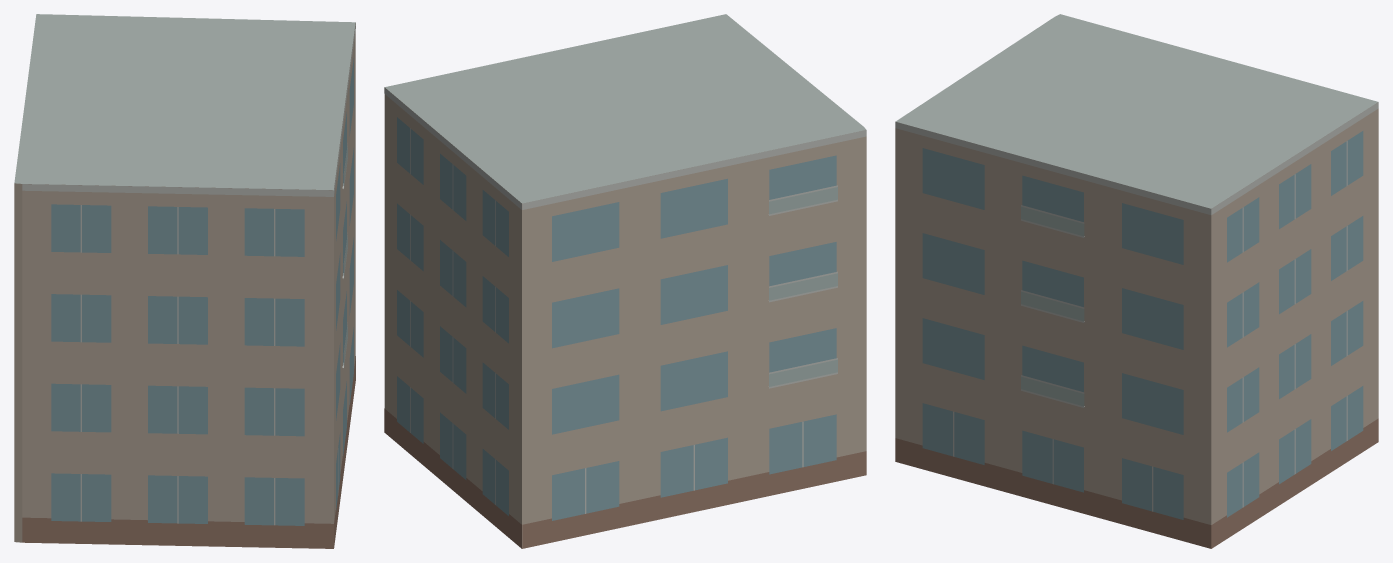
Rendered from survey-upis-32558586.glb.
3 views of the same model, side by side, from view 1: azimuth 30°, elevation 25°; view 2: azimuth 150°, elevation 25°; view 3: azimuth 270°, elevation 25° (orthographic). The views are drawn at different scales.
Visible parts, largest first — view 1: survey-upis-32558586.tmp; view 2: survey-upis-32558586.tmp; view 3: survey-upis-32558586.tmp.
Part boxes in pixels (box(x1,y1,x2,y2)): survey-upis-32558586.tmp: box(14, 14, 355, 548); survey-upis-32558586.tmp: box(384, 14, 866, 548); survey-upis-32558586.tmp: box(895, 14, 1378, 548).
Bounding box in the file's own units: 15.73 × 12.8 × 16.49.
